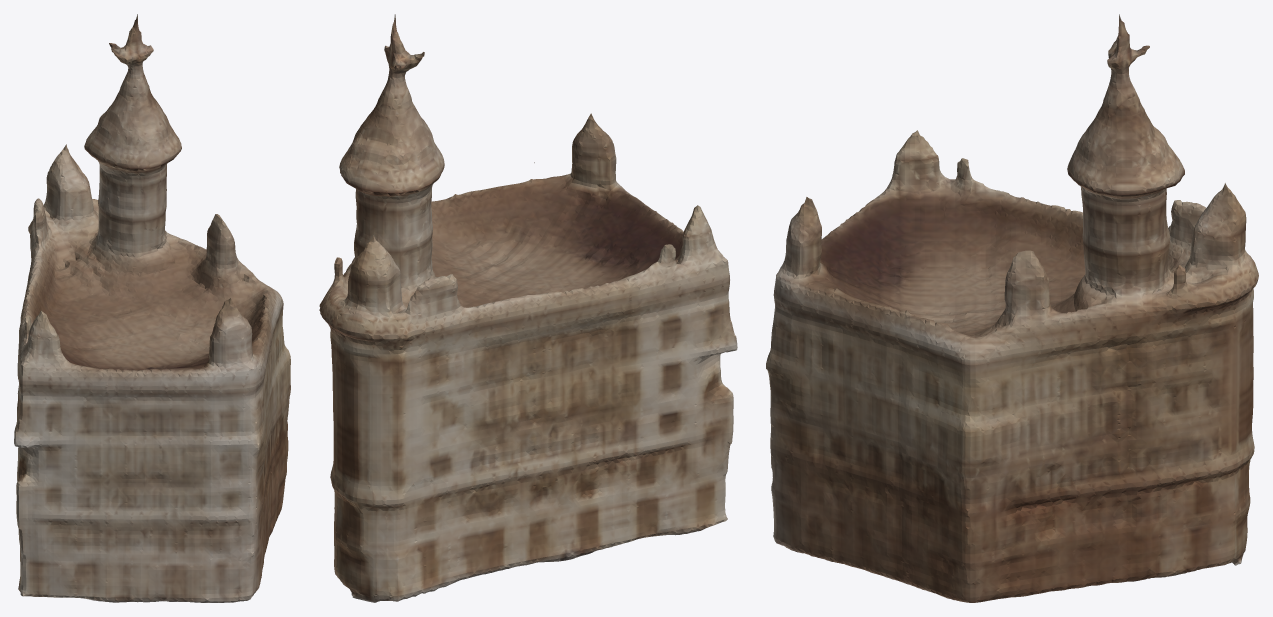
The model's file is cordoba.glb.
3 renders of one model, left to right at view 1: azimuth 30°, elevation 25°; view 2: azimuth 150°, elevation 25°; view 3: azimuth 270°, elevation 25°, orthographic. The views are drawn at different scales.
Parts seen in each view (by area): view 1: world; view 2: world; view 3: world.
Part boxes in pixels (<box>): world: <box>14,14,290,602</box>; world: <box>319,14,737,602</box>; world: <box>766,14,1258,602</box>.
Bounding box in the file's own units: 1.32 × 2.01 × 1.6.
